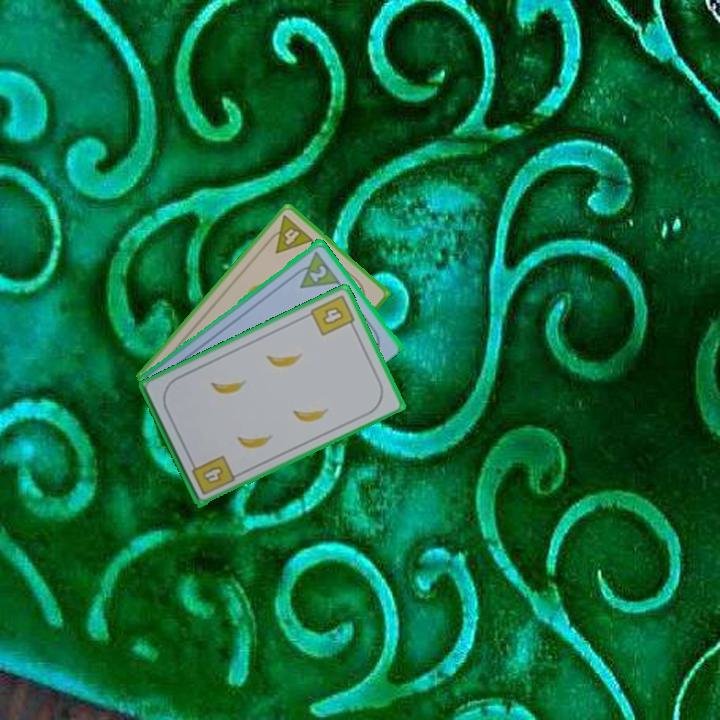2p: (289, 247, 342, 291)
4b: (307, 291, 359, 339), (187, 451, 238, 498)
4p: (262, 211, 317, 256)
